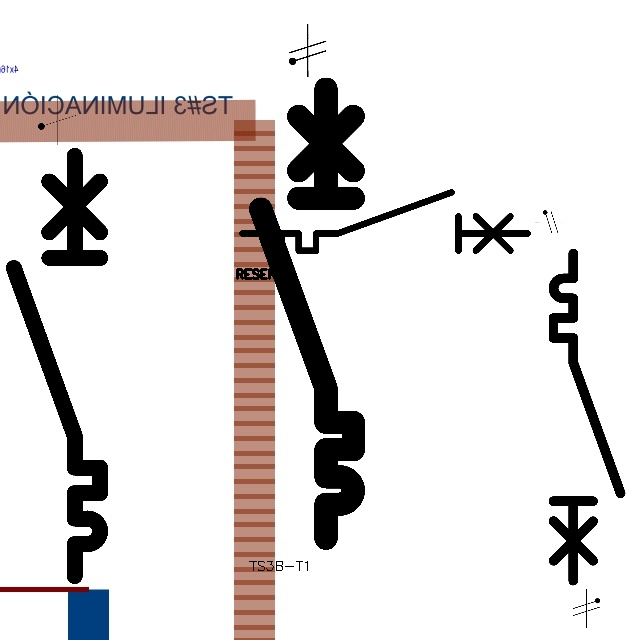interruptor_termomagnetico: (249, 77, 365, 550), (3, 145, 111, 587), (545, 245, 629, 589), (235, 185, 535, 258)
